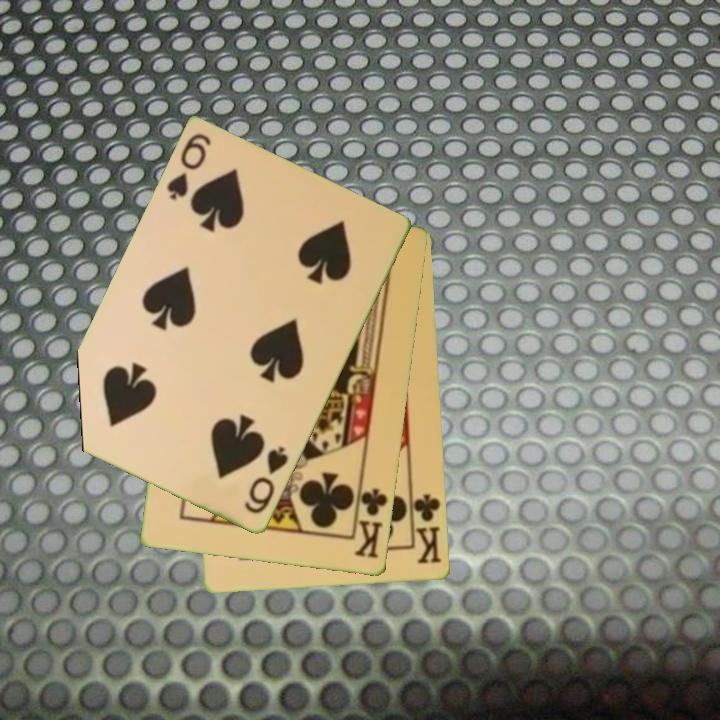6s: (240, 443, 292, 518), (163, 130, 214, 204)
Kc: (351, 479, 391, 562), (408, 487, 444, 567)
